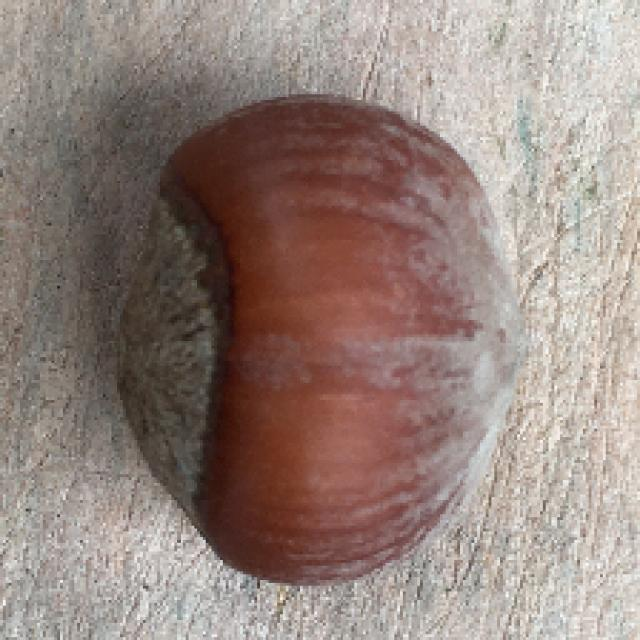qualityHazelnut: (110, 90, 530, 590)
